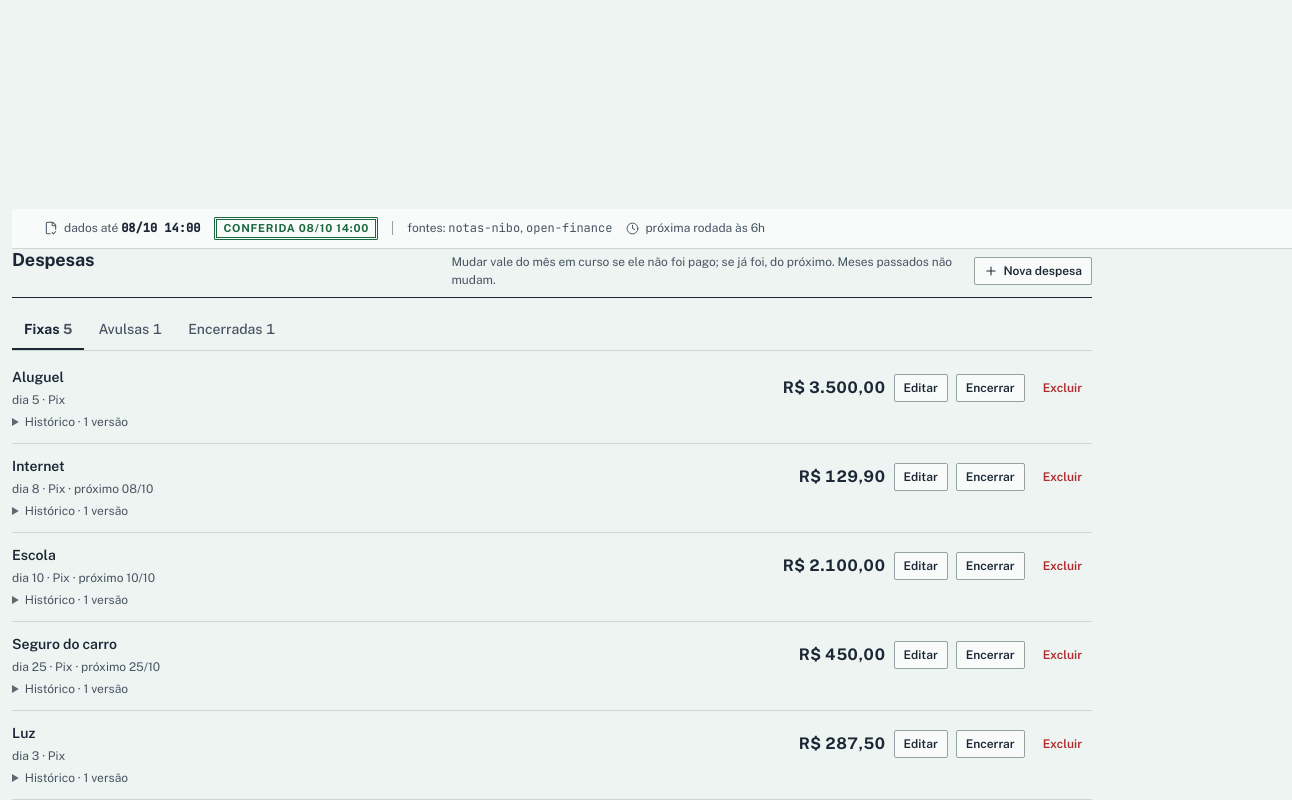
Test case: Cadastros › Despesas: excluir sem pagamento avisa que excluiu
The width and height of the screenshot is (1292, 800).
(page scrolled)
Click the button with aria-label "Excluir Luz": (1062, 744) [1033, 730, 1092, 758]
(page scrolled)
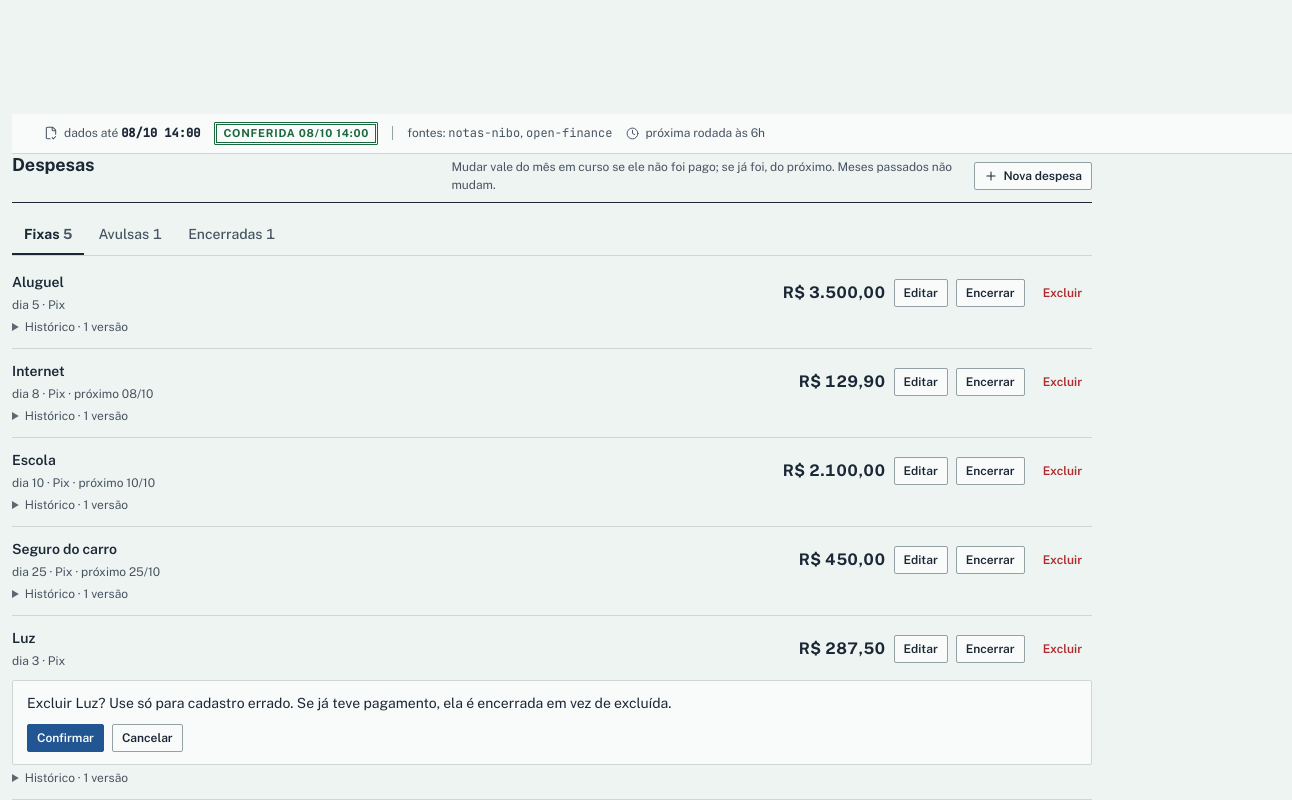
Click the button with aria-label "Confirmar excluir Luz": (65, 738) [27, 724, 104, 752]
(page scrolled)
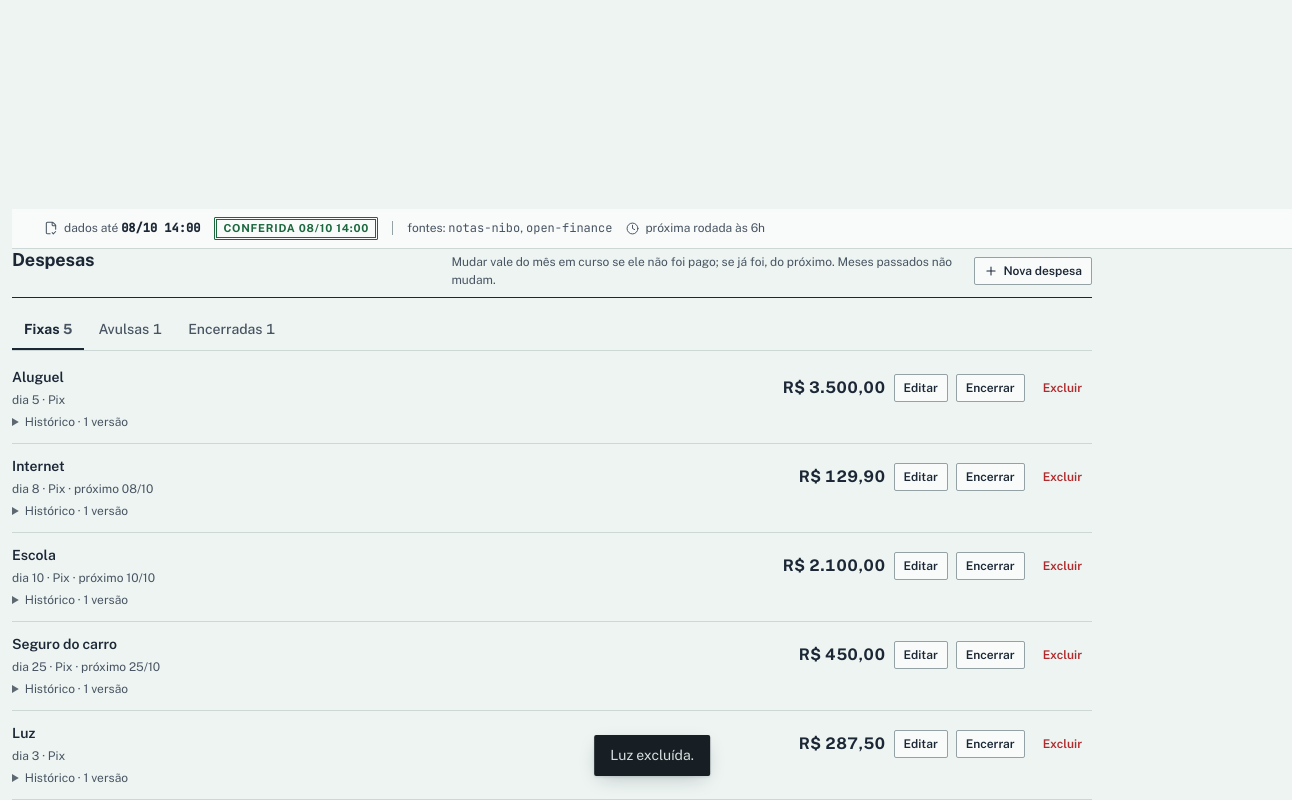
Expected: the message "Luz excluída." is shown, [594, 735, 710, 776]
